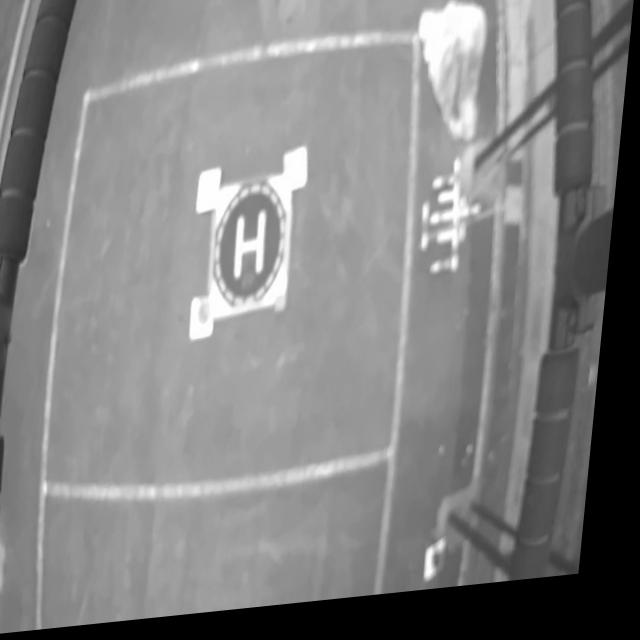Helipad: (239, 217, 272, 285)
